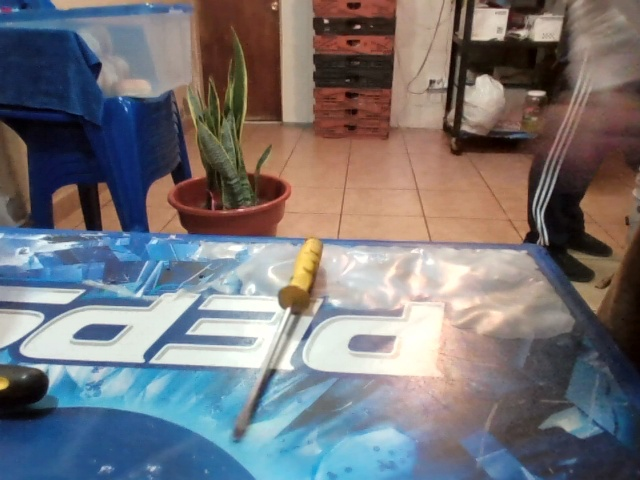destornillador: (232, 236, 325, 442), (0, 364, 50, 411)
